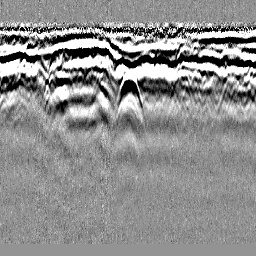cavity: (113, 68, 146, 126)
